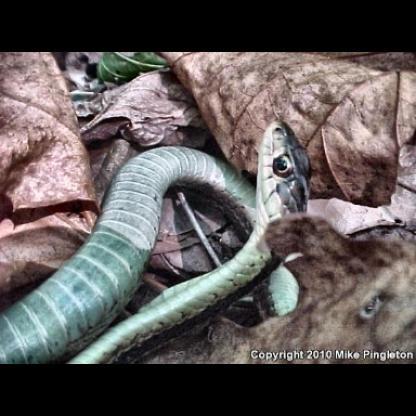Snake: (0, 70, 308, 354)
